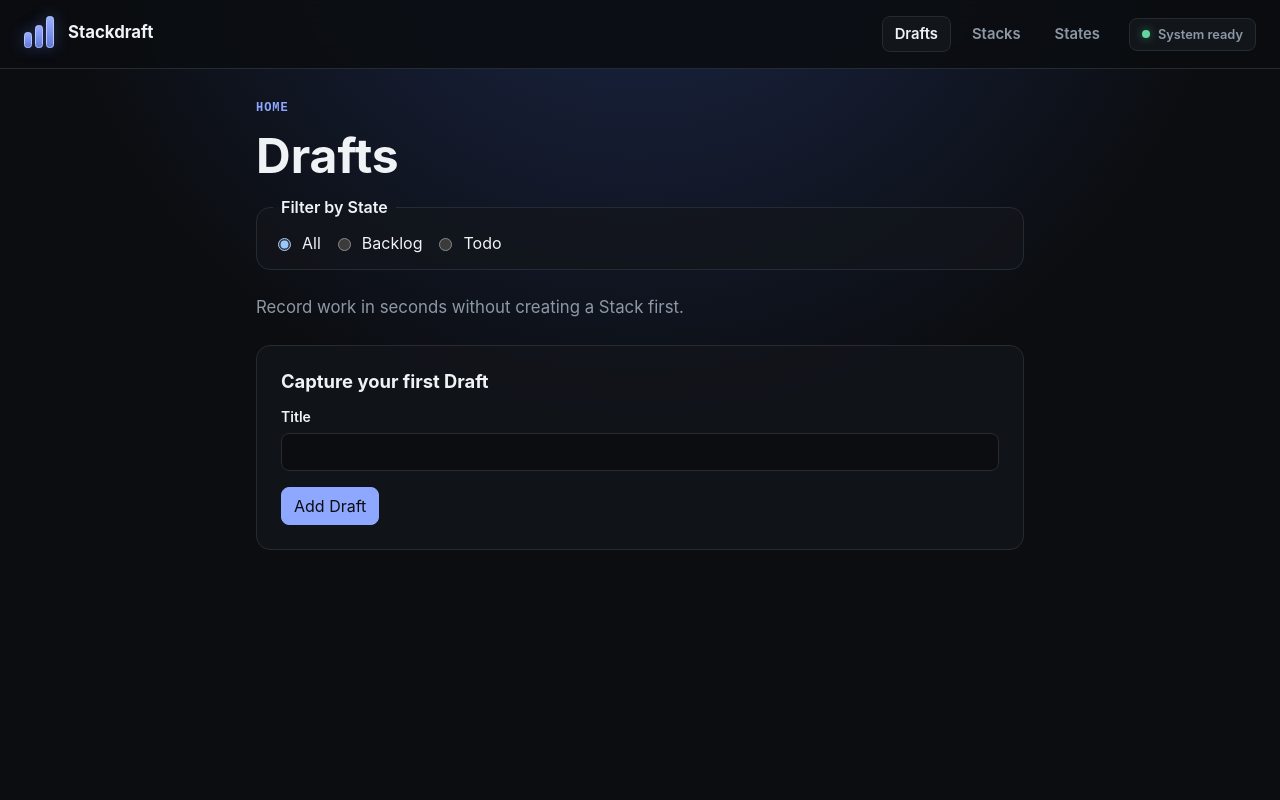
Test: draft list screen › retains the title when quick-create fails
Type "Retry me" into the field labelled "Title" at (640, 452), box [281, 433, 999, 471]
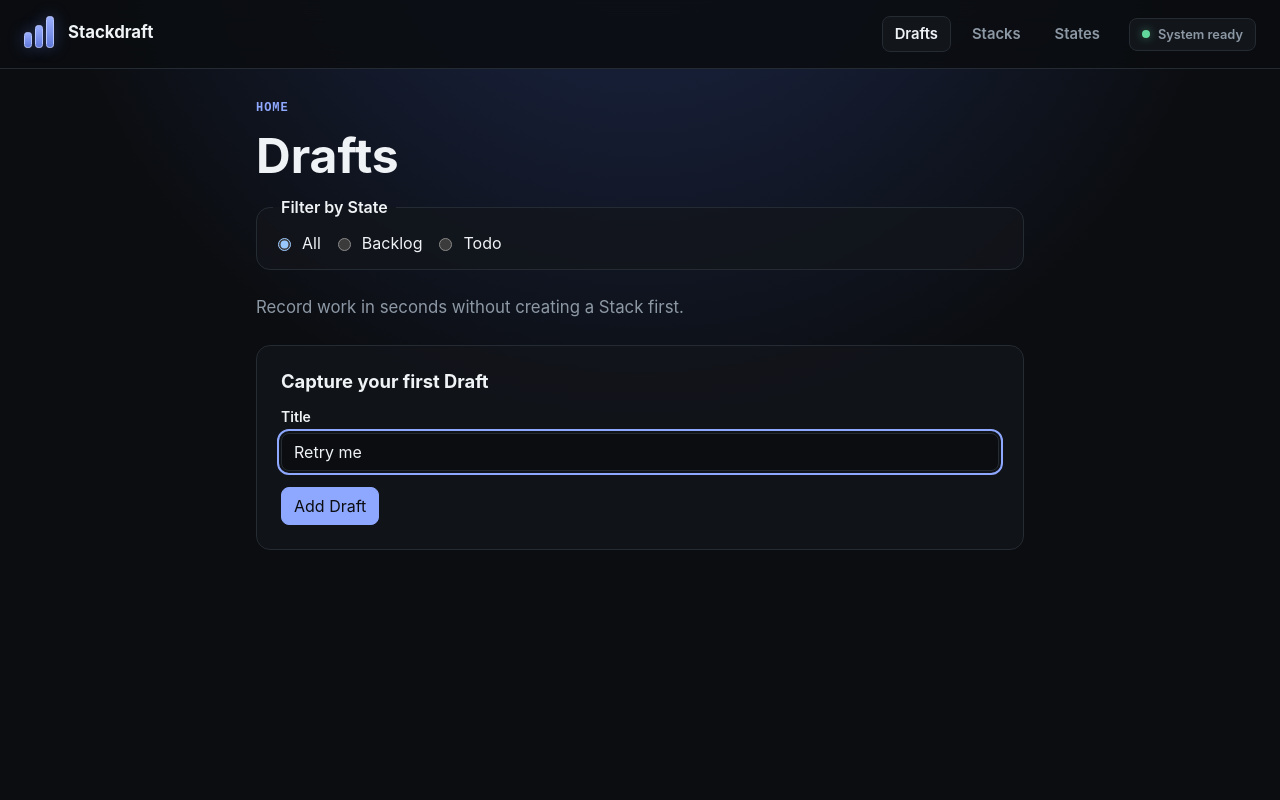
Click the button "Add Draft" at (330, 506), box [281, 487, 379, 525]
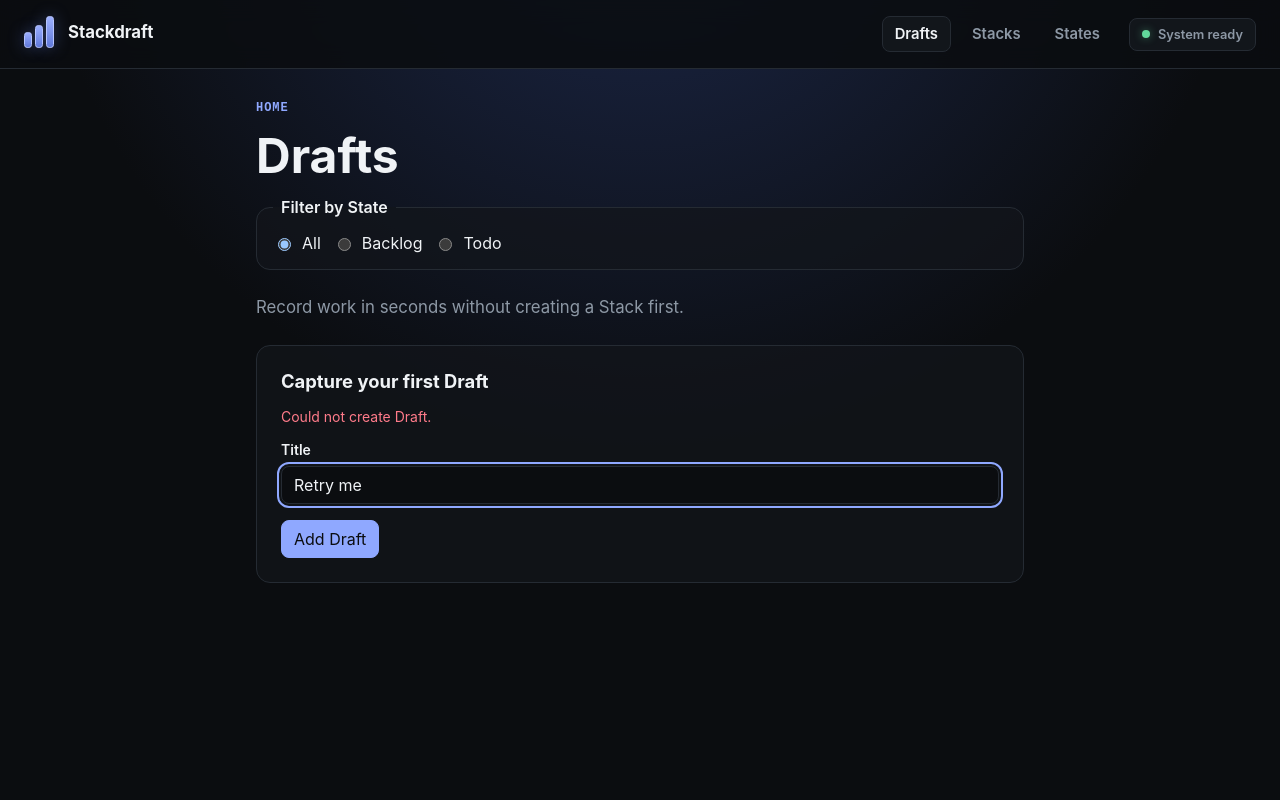
Expected: the message "Could not create Draft." is shown, [281, 408, 431, 425]
